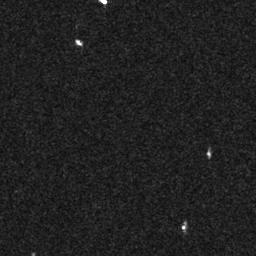ship: (73, 38, 84, 46)
